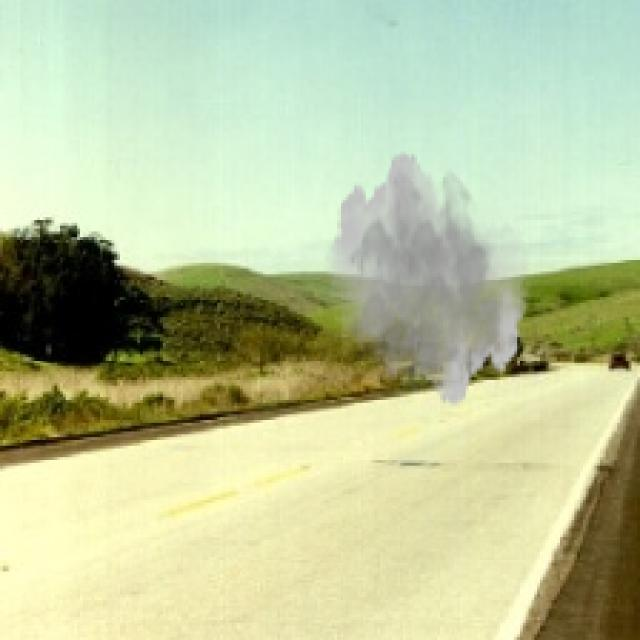smoke: (326, 148, 531, 408)
